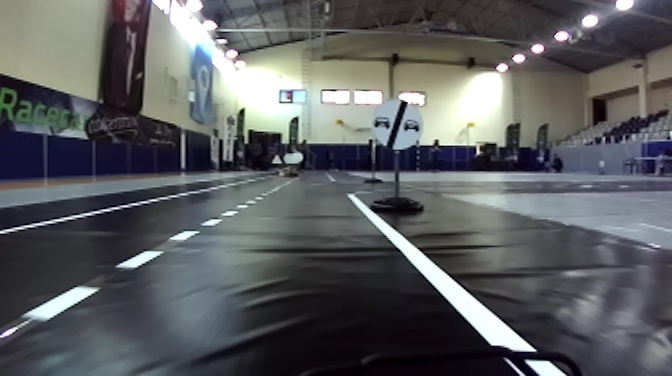sollama_serbest: (371, 97, 422, 148)
